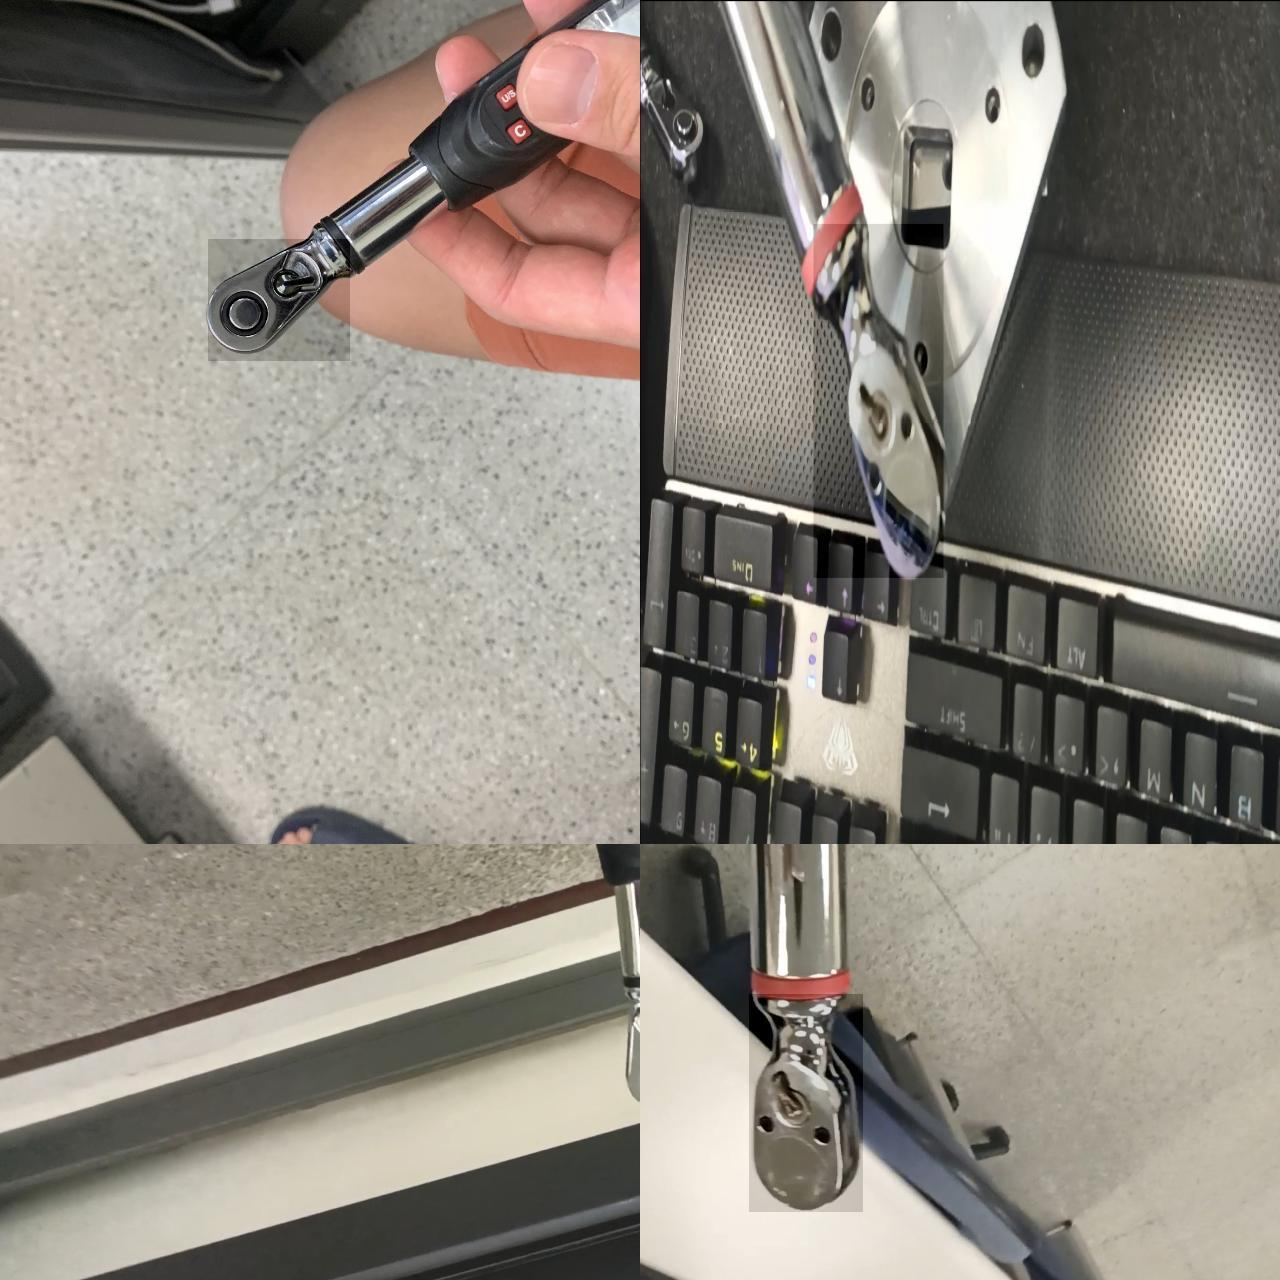Tool: (813, 222, 942, 577), (748, 993, 862, 1211), (207, 238, 349, 360), (642, 27, 701, 193), (622, 992, 640, 1105)
